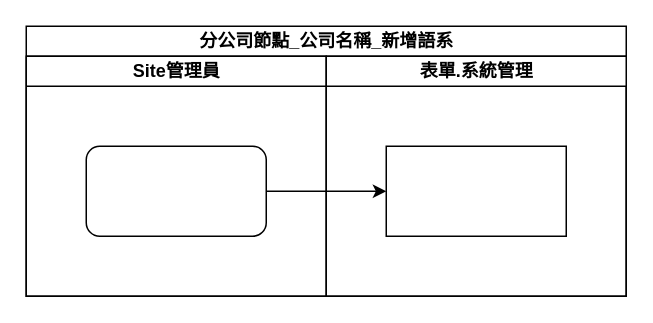
The diagram is 653 pixels wide and 323 high, and some of its shapes have lost their labels. Here are the shapes that lost their labels. From the top down, the centre of each, then its label:
At pixel 175 190: "點擊按鈕.新增語系".
At pixel 475 190: "新增一筆 空白語系名稱".
